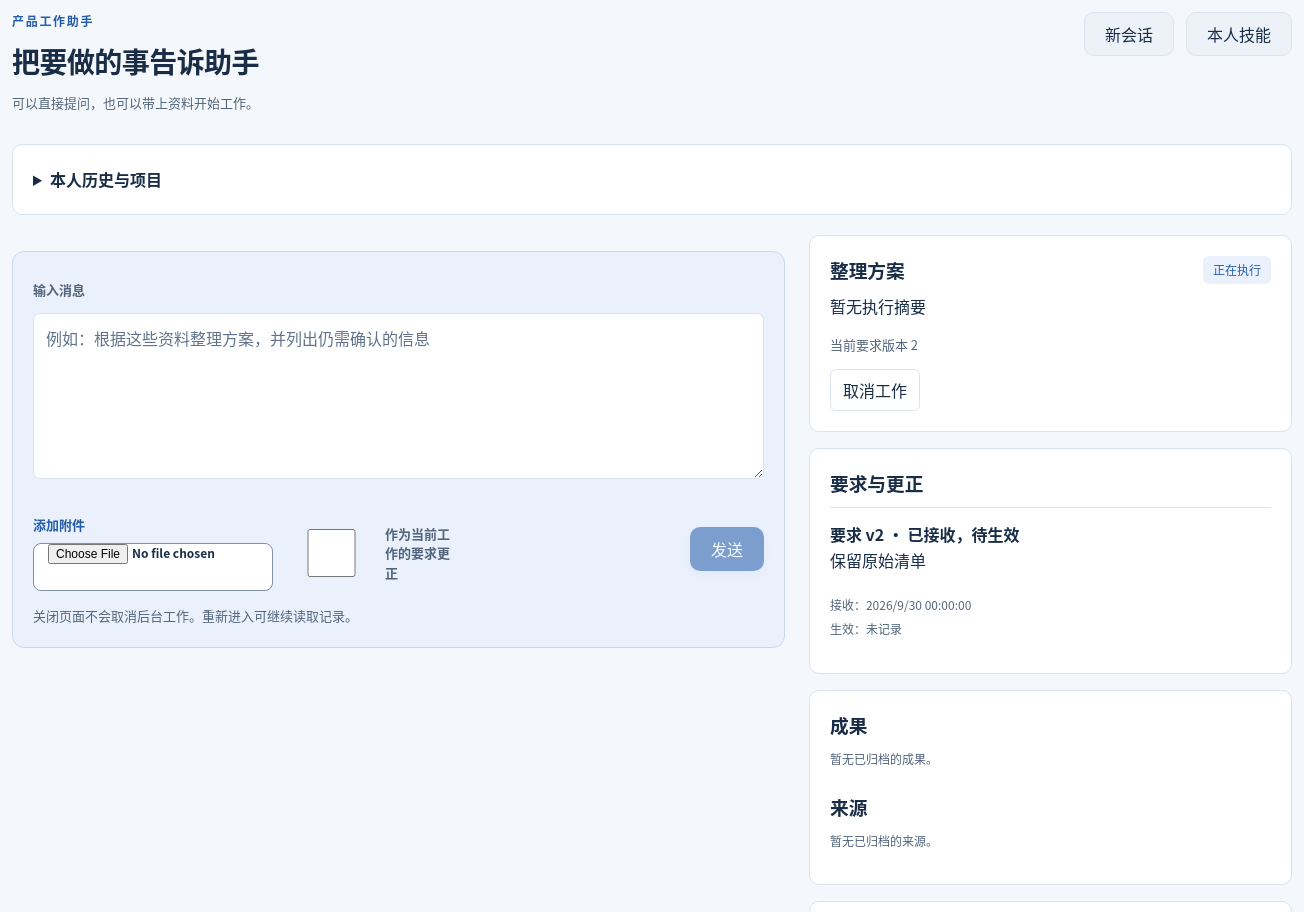
shows received rather than applied and allows corrections during running
The width and height of the screenshot is (1304, 912).
Expected: the text "要求 v2 · 已接收，待生效" is shown, [830,522,1020,546]
Click the checkbox labelled "作为当前工作的要求更正": [332, 553] box [289,529,374,577]
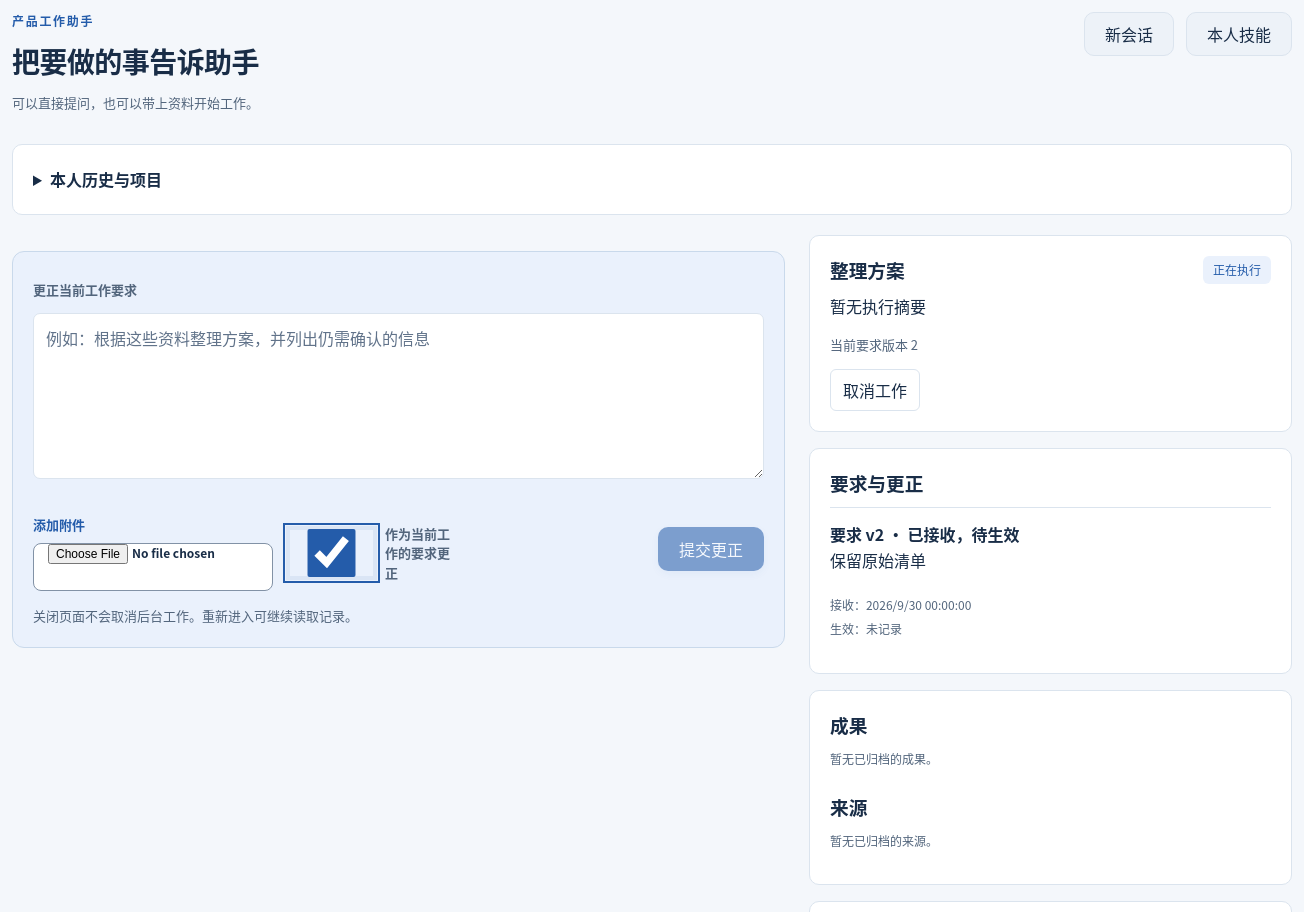
In the text box labelled "更正当前工作要求": [398, 396] box [33,313,764,479], type "增加原文引用"
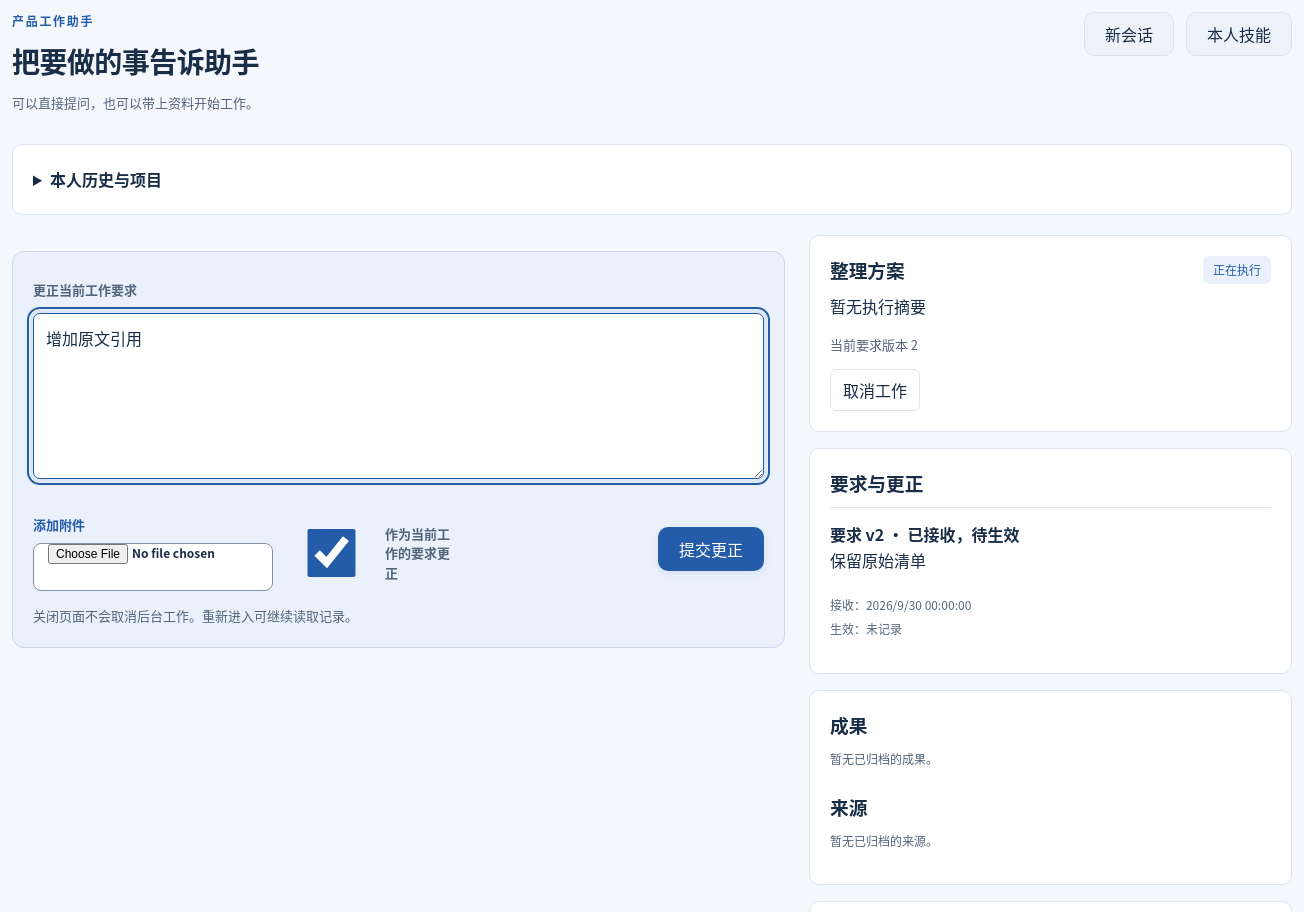
Click the button "提交更正": [711, 549] box [658,527,764,571]
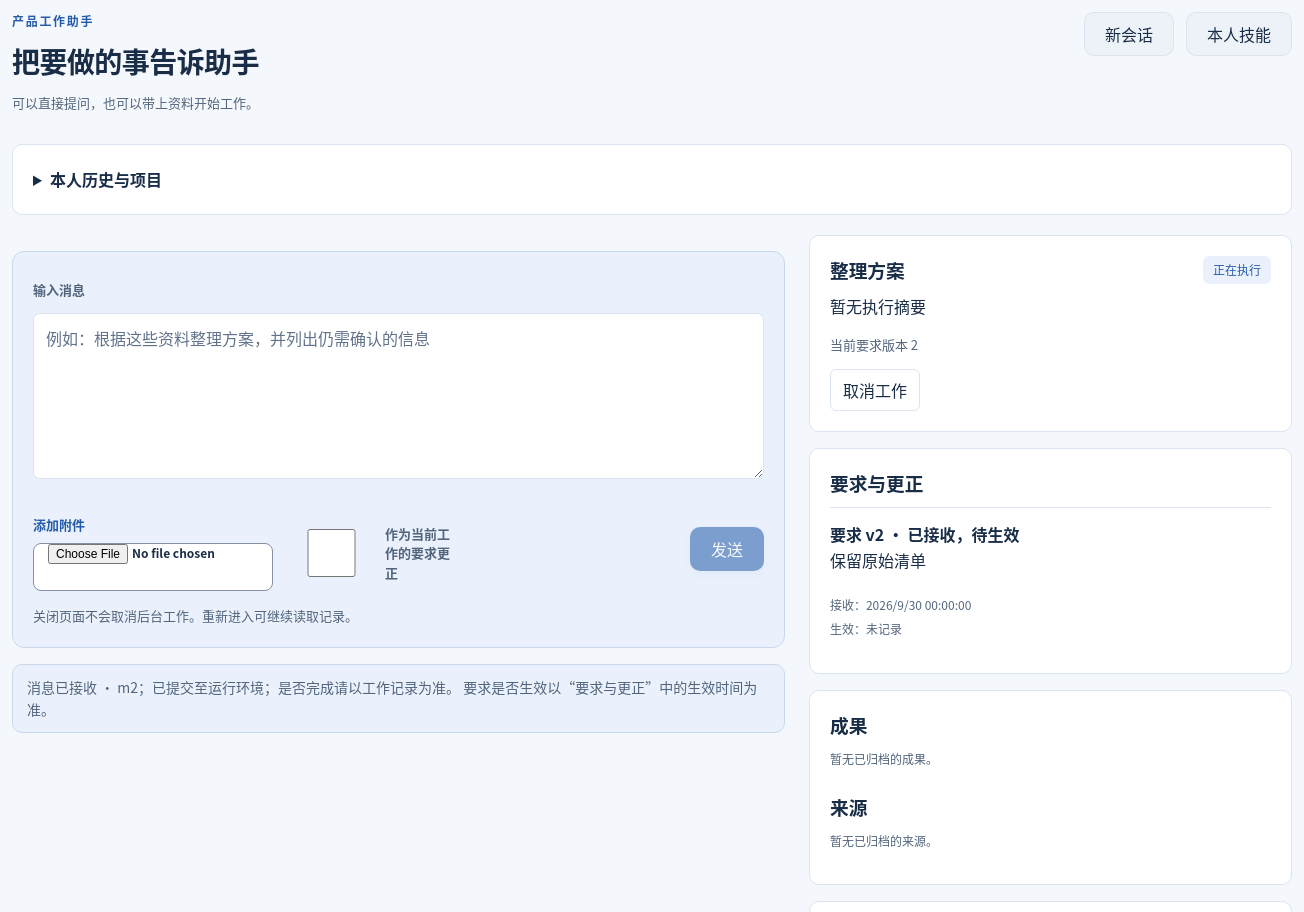
Expected: the text "消息已接收 · m2；已提交至运行环境；是否完成请以工作记录为准。 要求是否生效以“要求与更正”中的生效时间为准。" is shown, [12,664,785,733]
